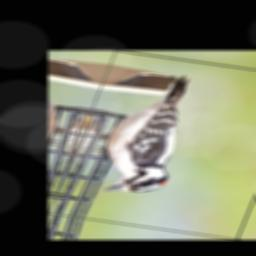Woodpecker: (78, 66, 213, 200)
